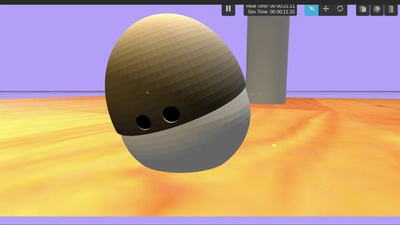mira_robot: (104, 13, 252, 173)
